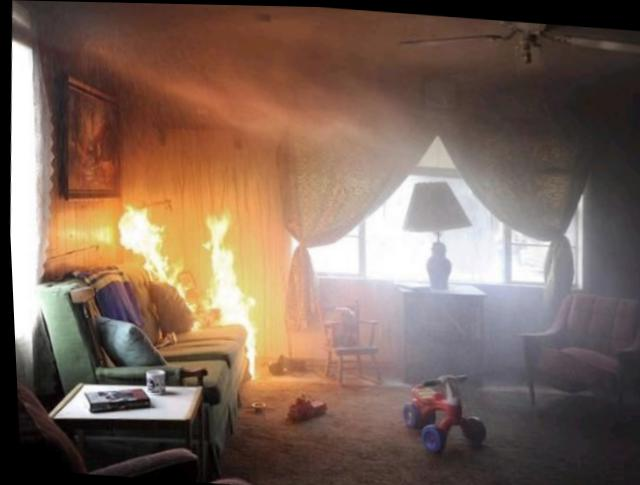fire: (108, 194, 262, 376)
